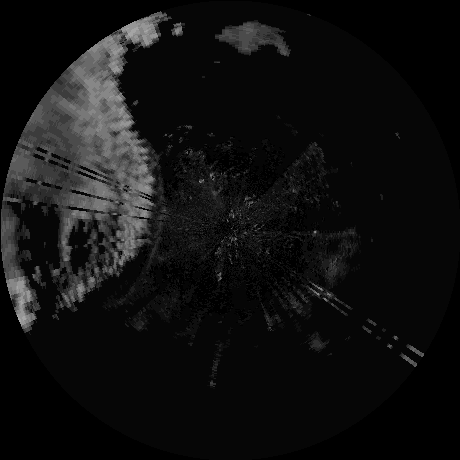frontgust: (144, 162, 167, 277)
